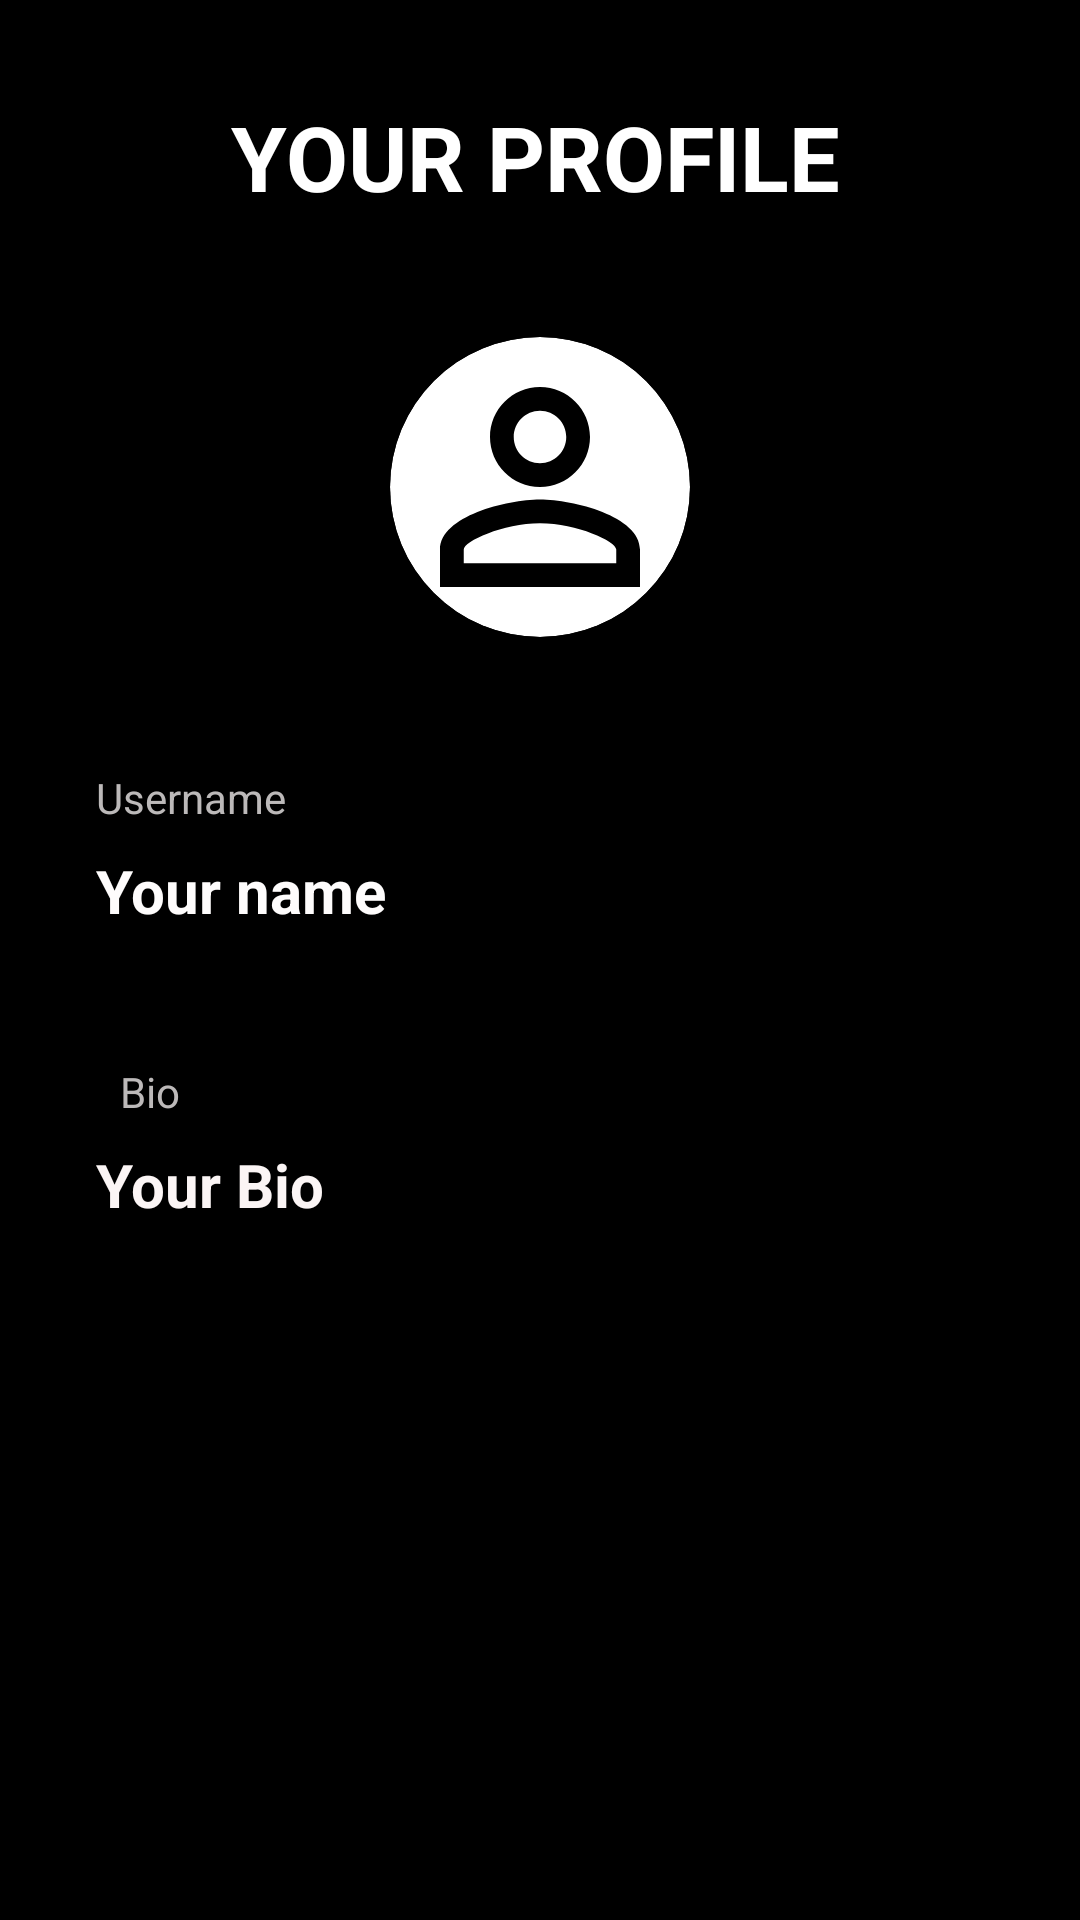

Named icons in this screenshot (1080×1920) and their centers, (x,y):
person: (540,487)
